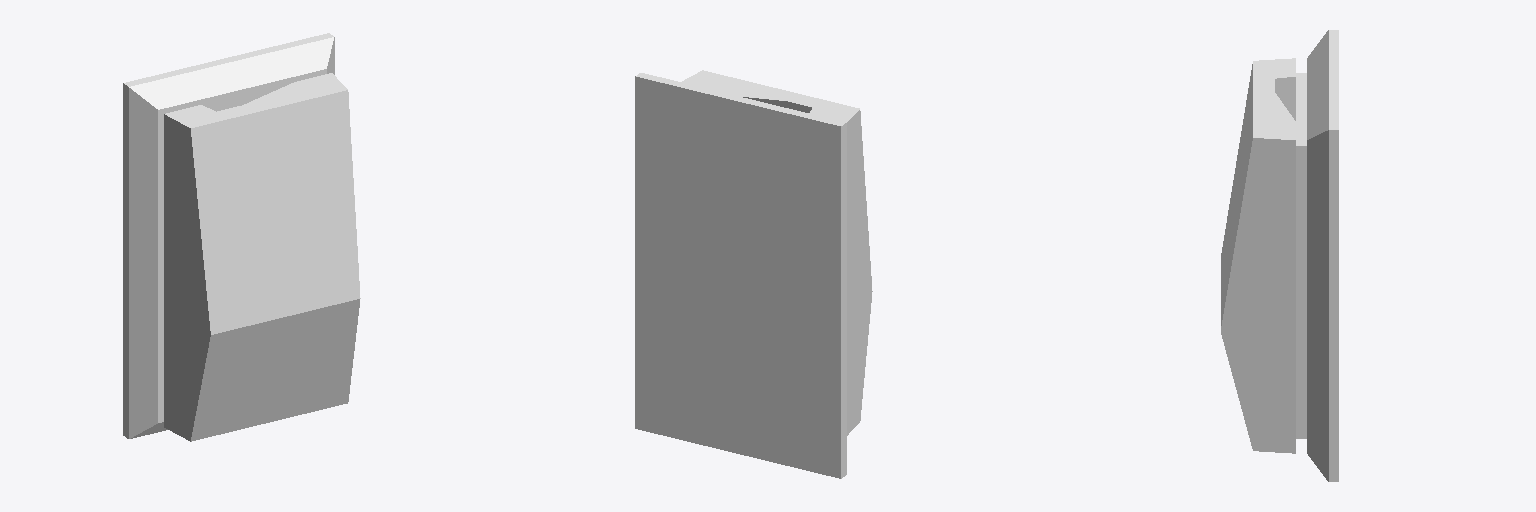
File: PresenceSensor.obj
The picture shows the model from 3 angles: view 1: azimuth 30°, elevation 25°; view 2: azimuth 150°, elevation 25°; view 3: azimuth 270°, elevation 25°; orthographic projection.
Visible parts, largest first — view 1: Mesh1 Model; view 2: Mesh1 Model; view 3: Mesh1 Model.
Boxes of the visible parts, x1,y1,x2,y2 form: Mesh1 Model: [123, 33, 360, 441]; Mesh1 Model: [635, 70, 872, 478]; Mesh1 Model: [1221, 30, 1338, 481].
Bounding box in the file's own units: 2.75 × 4.5 × 1.38.